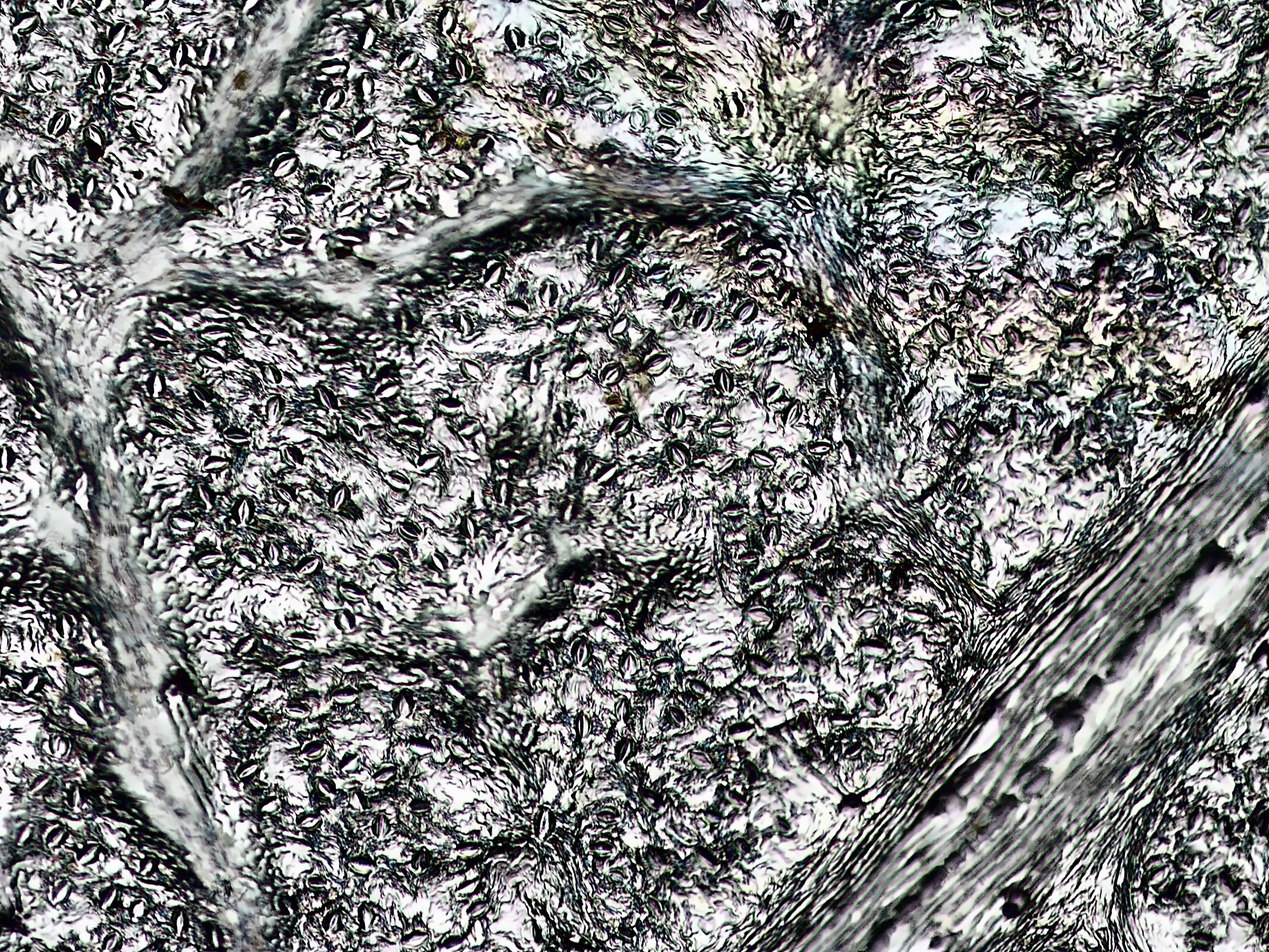stomata: (660, 817, 711, 845), (547, 400, 586, 436), (884, 281, 921, 316), (1046, 421, 1080, 459), (998, 401, 1032, 439), (706, 365, 741, 400), (593, 887, 642, 912), (638, 844, 676, 876), (890, 2, 934, 29), (390, 306, 422, 342), (342, 443, 380, 473), (309, 380, 343, 413), (691, 842, 731, 870), (307, 337, 353, 361), (94, 822, 129, 852), (609, 225, 644, 255), (966, 422, 1006, 448), (102, 88, 142, 114), (538, 123, 575, 151), (1198, 119, 1230, 151), (58, 701, 92, 731), (964, 156, 995, 188), (127, 114, 157, 147), (1053, 333, 1096, 356), (897, 340, 934, 366), (534, 81, 565, 112), (927, 316, 959, 346), (568, 635, 597, 668), (69, 467, 98, 500), (636, 786, 670, 814), (88, 60, 116, 94), (1076, 408, 1103, 443), (240, 238, 276, 264), (709, 218, 745, 244), (45, 876, 75, 907), (136, 62, 168, 91), (1142, 864, 1175, 892), (1099, 381, 1139, 404), (1182, 803, 1209, 837), (721, 90, 748, 124), (275, 223, 313, 247), (628, 926, 663, 952), (449, 49, 474, 85), (1177, 260, 1208, 289), (936, 59, 975, 82), (769, 812, 801, 840), (1231, 2, 1259, 34), (78, 119, 110, 147), (261, 394, 288, 427), (532, 803, 556, 840), (1059, 494, 1096, 518), (1021, 376, 1055, 402), (1164, 123, 1198, 149), (378, 669, 427, 687), (329, 223, 369, 245), (296, 738, 331, 763), (439, 678, 469, 707), (1227, 198, 1256, 228), (773, 6, 801, 37), (185, 382, 217, 409), (167, 903, 191, 939), (22, 405, 58, 429), (391, 47, 423, 74), (785, 189, 817, 216), (144, 370, 170, 403), (292, 554, 325, 580), (1100, 318, 1134, 343), (409, 84, 443, 109), (858, 687, 887, 716), (270, 479, 300, 507), (227, 495, 255, 525), (740, 254, 775, 278), (731, 299, 762, 326), (655, 70, 693, 92), (327, 482, 353, 514), (24, 773, 56, 799), (1131, 275, 1167, 298), (6, 13, 42, 36), (883, 256, 920, 278), (301, 182, 338, 204), (605, 260, 633, 289), (569, 710, 597, 739), (1209, 250, 1238, 278), (1126, 199, 1154, 228), (425, 129, 453, 158), (458, 357, 488, 384), (1062, 55, 1092, 82), (112, 352, 147, 375), (650, 135, 685, 158), (194, 325, 234, 345), (392, 689, 417, 721), (984, 563, 1009, 595), (1055, 191, 1087, 216), (1044, 280, 1082, 301), (892, 222, 930, 243), (640, 353, 673, 377), (587, 803, 623, 825), (589, 141, 622, 165), (768, 281, 801, 305), (761, 686, 790, 713), (932, 418, 959, 447), (876, 55, 910, 78), (64, 782, 90, 812), (918, 85, 948, 111), (942, 119, 979, 140), (198, 455, 233, 477), (370, 552, 402, 576), (596, 605, 628, 629), (738, 760, 762, 792), (1092, 258, 1116, 290), (266, 153, 298, 177), (533, 29, 565, 53), (1034, 0, 1067, 23), (278, 443, 306, 470), (609, 695, 636, 723), (856, 638, 892, 659), (316, 57, 352, 78), (201, 922, 227, 951), (1000, 322, 1026, 351), (1014, 234, 1039, 264), (1033, 228, 1058, 258), (43, 110, 73, 135), (490, 450, 524, 472), (684, 677, 715, 701), (28, 154, 52, 185), (503, 23, 527, 54), (704, 419, 743, 438), (721, 721, 758, 741), (141, 323, 176, 344), (127, 333, 162, 354), (1128, 229, 1163, 250), (974, 333, 1001, 360), (1098, 445, 1126, 471), (51, 478, 77, 506), (356, 23, 382, 51), (115, 391, 148, 413), (167, 512, 200, 534), (192, 547, 225, 569), (285, 630, 318, 652), (666, 441, 691, 470), (451, 872, 480, 897), (959, 283, 984, 312), (1024, 161, 1053, 186), (168, 37, 193, 66), (13, 375, 42, 400), (626, 105, 651, 134), (364, 930, 402, 949), (605, 415, 635, 439), (68, 658, 104, 678), (270, 892, 300, 916), (602, 13, 632, 37), (835, 438, 858, 469), (229, 633, 260, 656), (437, 4, 459, 36), (536, 279, 562, 306), (73, 840, 99, 867), (663, 703, 691, 728), (631, 806, 659, 831), (657, 105, 685, 130), (12, 820, 36, 849), (356, 902, 380, 931), (744, 651, 774, 674), (1145, 44, 1175, 67), (987, 0, 1023, 19), (799, 582, 830, 604), (825, 369, 847, 400), (763, 343, 794, 365), (480, 260, 506, 286), (41, 824, 67, 850), (320, 910, 346, 936), (731, 835, 757, 861), (1187, 202, 1213, 228), (759, 521, 784, 548), (563, 356, 590, 381), (450, 311, 475, 338), (385, 903, 410, 930), (596, 363, 624, 387), (55, 609, 76, 641), (408, 846, 432, 874), (740, 607, 772, 628), (79, 175, 107, 199), (442, 163, 474, 184), (780, 399, 803, 428), (266, 500, 295, 523), (1169, 848, 1198, 871), (953, 521, 976, 550), (217, 427, 252, 446), (646, 39, 681, 58), (480, 774, 513, 794), (1217, 868, 1239, 898), (317, 87, 347, 109), (381, 172, 414, 192), (194, 482, 215, 513), (687, 750, 718, 771), (257, 360, 283, 385), (231, 547, 256, 573), (312, 775, 338, 800), (1200, 2, 1225, 28), (351, 114, 377, 139), (371, 762, 398, 786), (196, 37, 220, 64), (302, 872, 336, 891), (809, 533, 837, 556), (329, 686, 361, 706), (452, 839, 484, 859), (344, 858, 376, 878), (1067, 218, 1099, 238), (0, 185, 20, 217), (0, 670, 29, 692), (460, 896, 489, 918), (502, 298, 532, 319), (523, 356, 544, 386), (194, 351, 227, 370), (662, 287, 687, 312), (608, 314, 632, 340), (336, 416, 362, 440), (1116, 147, 1142, 171), (344, 784, 367, 811), (723, 787, 750, 810), (948, 475, 979, 495), (97, 885, 119, 913), (12, 888, 40, 910), (1240, 40, 1268, 62), (953, 218, 987, 236), (383, 469, 412, 490), (338, 581, 367, 602), (254, 794, 283, 815), (796, 654, 825, 675), (585, 92, 617, 111), (334, 609, 358, 634), (583, 236, 606, 262), (48, 731, 71, 757), (22, 671, 45, 697), (25, 71, 52, 93), (572, 62, 599, 84), (727, 337, 758, 356), (1188, 160, 1219, 179), (282, 702, 310, 723), (244, 711, 272, 732), (337, 670, 365, 691), (514, 719, 535, 747), (1012, 89, 1040, 110), (356, 72, 377, 100), (144, 417, 176, 435), (573, 457, 596, 482), (757, 486, 782, 509), (416, 450, 441, 473), (397, 123, 420, 148), (666, 500, 692, 522), (692, 306, 714, 332), (464, 919, 486, 945), (106, 22, 128, 48), (747, 450, 777, 469), (293, 813, 323, 832), (553, 313, 580, 334), (395, 521, 422, 542), (374, 381, 401, 402), (408, 188, 436, 208), (614, 735, 632, 766), (399, 930, 430, 948), (901, 608, 932, 626), (1180, 90, 1211, 108), (373, 812, 392, 841), (1134, 6, 1163, 25), (470, 132, 495, 154), (558, 499, 579, 525), (720, 528, 752, 545), (404, 799, 436, 816), (963, 371, 997, 387), (1216, 101, 1248, 118), (745, 570, 772, 590), (128, 897, 148, 924), (619, 649, 637, 679), (436, 934, 466, 952), (881, 93, 911, 111), (981, 52, 1011, 70), (436, 396, 464, 415), (1230, 909, 1258, 928), (927, 282, 950, 305), (666, 403, 688, 427), (450, 739, 474, 761), (1229, 83, 1253, 105), (316, 121, 341, 142), (430, 735, 448, 764), (454, 417, 480, 437), (493, 478, 513, 504), (42, 789, 68, 809), (398, 419, 425, 438), (757, 747, 776, 774), (263, 538, 280, 568), (276, 655, 306, 672), (1155, 384, 1185, 401), (332, 202, 362, 219), (339, 751, 362, 773), (504, 511, 532, 529), (459, 515, 480, 539), (431, 549, 452, 573), (841, 739, 865, 760), (853, 609, 881, 627), (1213, 25, 1237, 46), (966, 86, 991, 106), (813, 714, 832, 740), (233, 760, 260, 778), (712, 455, 735, 476), (762, 380, 783, 403), (593, 464, 617, 484), (98, 932, 122, 952), (602, 393, 628, 411), (428, 711, 454, 729), (718, 503, 749, 518), (584, 839, 613, 855), (649, 657, 676, 674), (369, 203, 393, 222), (807, 741, 827, 763), (808, 438, 831, 457), (786, 471, 810, 489), (733, 549, 760, 565), (410, 912, 430, 933), (317, 840, 340, 858), (447, 248, 476, 262), (644, 265, 671, 280), (568, 770, 587, 791), (526, 920, 543, 943), (601, 870, 625, 886), (138, 857, 157, 877), (408, 742, 435, 756), (795, 711, 809, 738), (1214, 813, 1232, 834), (152, 434, 174, 451), (336, 929, 352, 952), (1070, 170, 1093, 186), (1231, 819, 1248, 838), (0, 627, 11, 654), (1252, 142, 1269, 156), (22, 633, 34, 652)
